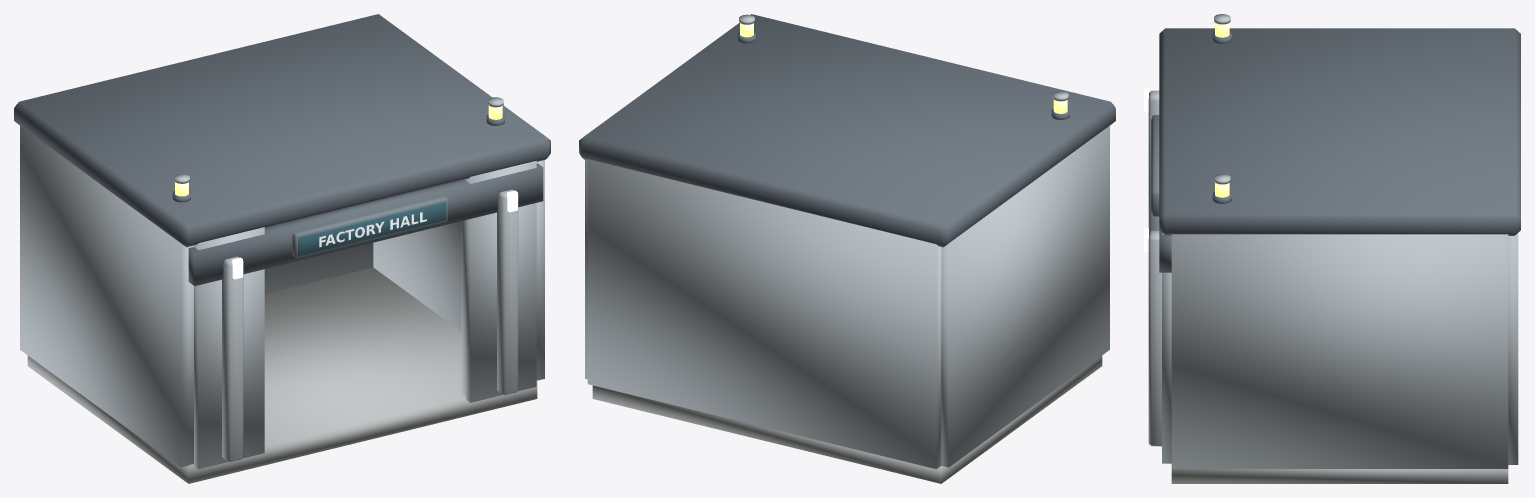
The model's file is factory_hall_standard.glb.
3 renders of one model, left to right at view 1: azimuth 30°, elevation 25°; view 2: azimuth 150°, elevation 25°; view 3: azimuth 270°, elevation 25°, orthographic. The views are drawn at different scales.
Parts seen in each view (by area): view 1: Roof_dark_legacy_2, Wall_steel_legacy_1, Foundation_concrete_legacy_0, FrontFrame_steel_legacy_3, Header_dark_legacy_4, PortalTrim_steel_legacy_13, SignPlate_glass, ScreenMount_frame, TypeLabel_white; view 2: Wall_steel_legacy_1, Roof_dark_legacy_2, Foundation_concrete_legacy_0; view 3: Wall_steel_legacy_1, Roof_dark_legacy_2, Foundation_concrete_legacy_0, PortalTrim_steel_legacy_13, FrontFrame_steel_legacy_3, ScreenMount_frame, Header_dark_legacy_4, StatusLight_warn_legacy_10.
Boxes of the visible parts, x1,y1,x2,y2 form: Roof_dark_legacy_2: (14,14,550,247); Wall_steel_legacy_1: (20,125,544,467); Foundation_concrete_legacy_0: (27,267,537,483); FrontFrame_steel_legacy_3: (194,160,536,469); Header_dark_legacy_4: (188,163,543,285); PortalTrim_steel_legacy_13: (222,189,518,462); SignPlate_glass: (298,201,446,255); ScreenMount_frame: (292,196,447,258); TypeLabel_white: (319,212,426,247); Wall_steel_legacy_1: (585,125,1109,469); Roof_dark_legacy_2: (579,14,1115,247); Foundation_concrete_legacy_0: (592,356,1102,483); Wall_steel_legacy_1: (1171,233,1518,468); Roof_dark_legacy_2: (1159,28,1520,235); Foundation_concrete_legacy_0: (1171,469,1508,483); PortalTrim_steel_legacy_13: (1148,90,1161,446); FrontFrame_steel_legacy_3: (1162,233,1171,463); ScreenMount_frame: (1152,115,1159,216); Header_dark_legacy_4: (1159,230,1171,272); StatusLight_warn_legacy_10: (1215,23,1229,197).
Bounding box in the file's own units: 5.3 × 3.9 × 4.48.
